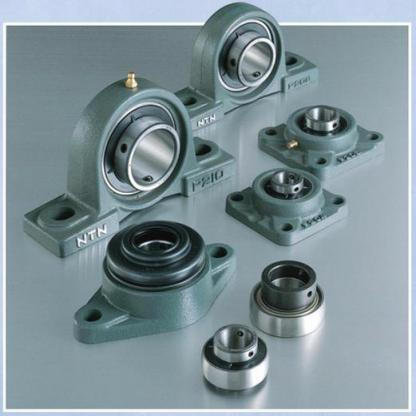FOD: (70, 218, 233, 350), (99, 98, 181, 202), (248, 256, 330, 341), (199, 323, 271, 398), (215, 17, 277, 99)
